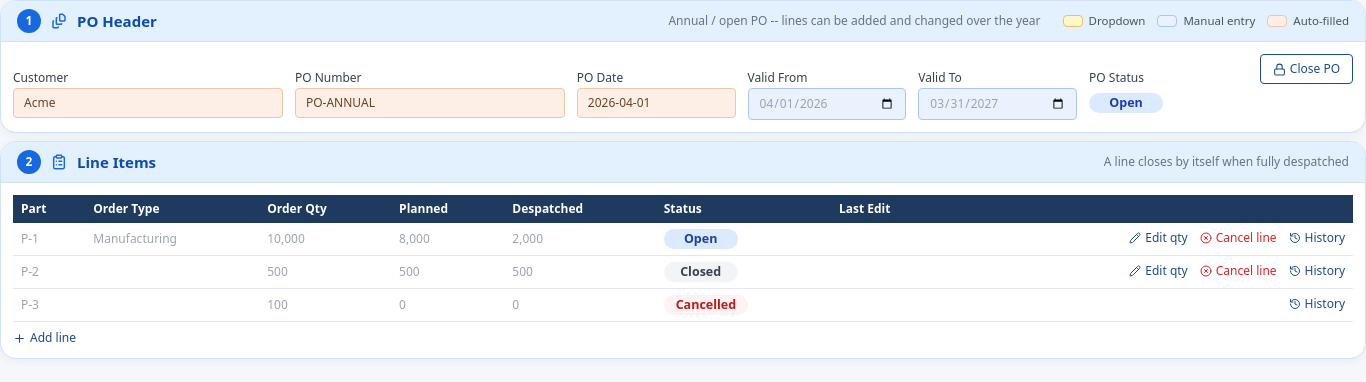
it: PO view › qty below planned refused on screen, naming unstarted PRDs
Click the button "Edit qty" in the row of "P-1" at (1158, 238), box top-left (1129, 230), bottom-right (1188, 246)
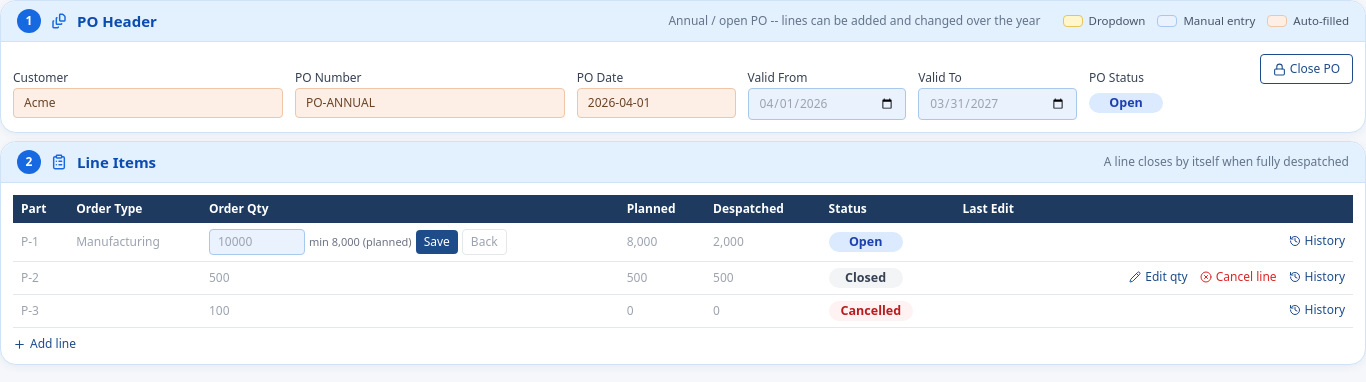
Check: the text "min 8,000 (planned)" is shown, box top-left (309, 234), bottom-right (412, 250)
Replace the text in the number field named "New order qty" with "7000" at (257, 242), box top-left (209, 229), bottom-right (305, 255)
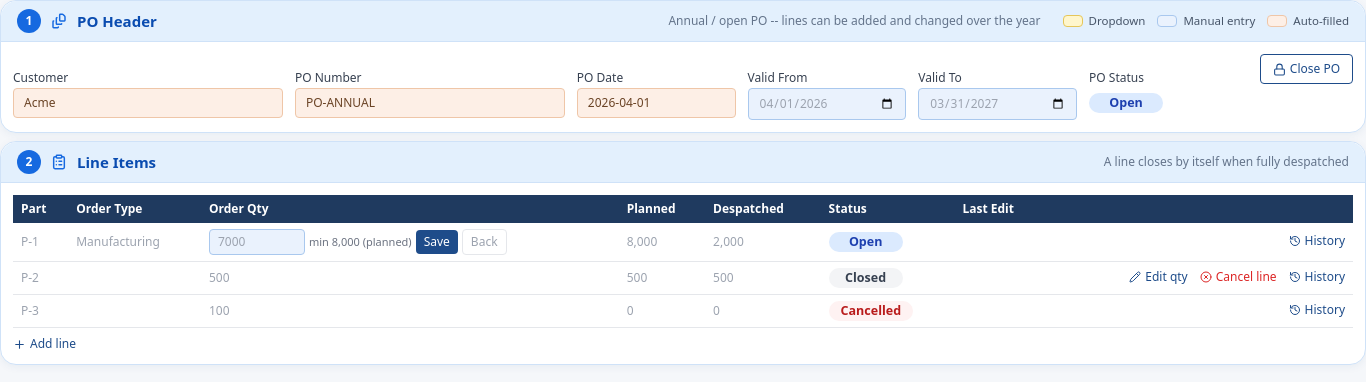
Click the button "Save" at (437, 242), box top-left (416, 230), bottom-right (458, 254)
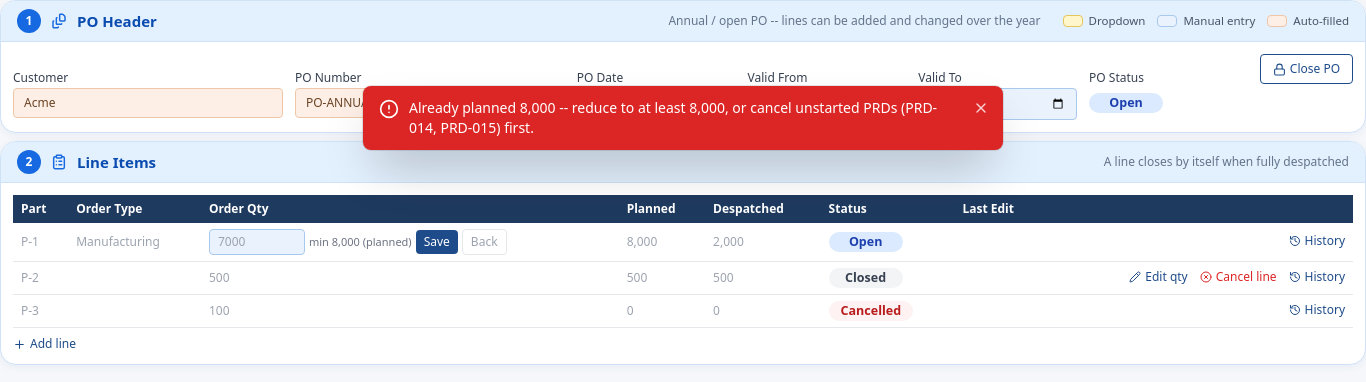
Check: the text "Already planned 8,000 -- reduce to at least 8,000, or cancel unstarted PRDs (PRD-014, PRD-015) first." is shown, box top-left (409, 98), bottom-right (937, 137)
